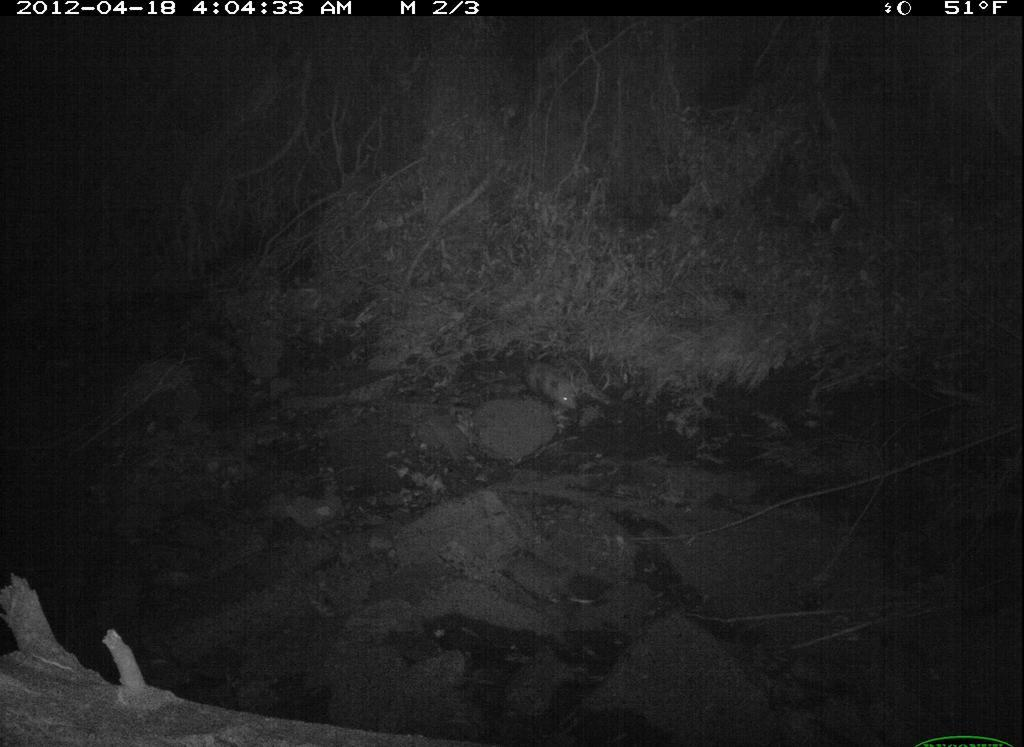opossum: (491, 344, 603, 428)
